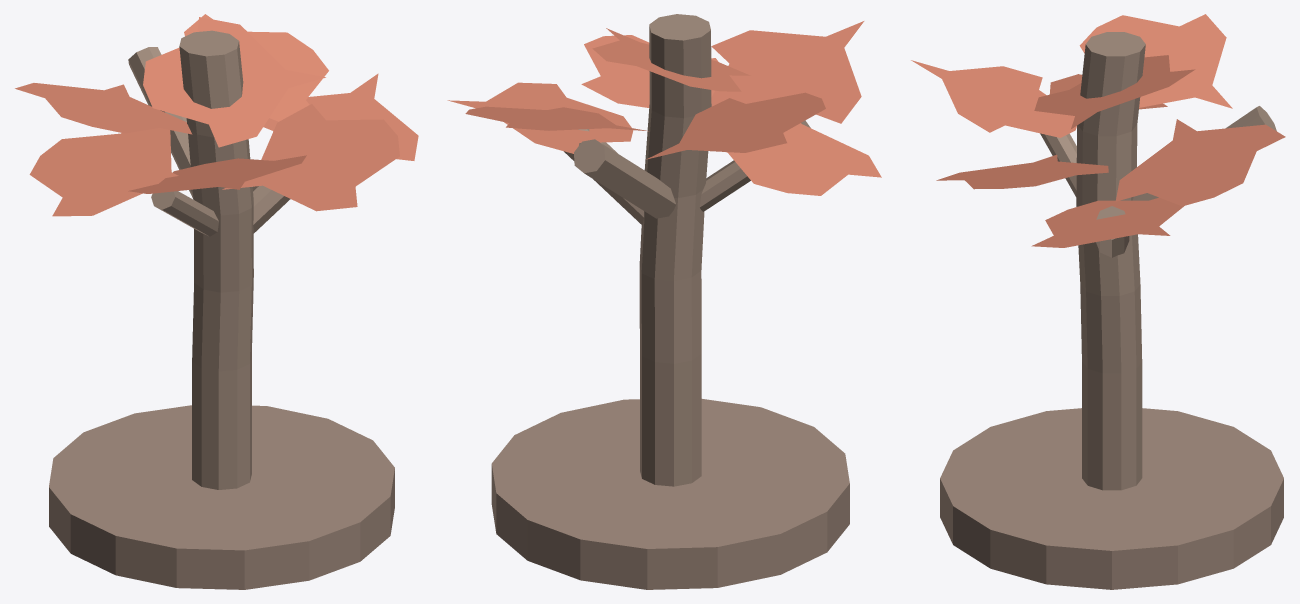
Rendered from maple_growing.glb.
3 views of the same model, side by side, from view 1: azimuth 30°, elevation 25°; view 2: azimuth 150°, elevation 25°; view 3: azimuth 270°, elevation 25° (orthographic). The views are drawn at different scales.
Parts seen in each view (by area): view 1: MapleGrowing_Base, MapleGrowing_Trunk.002, MapleGrowing_Leaf.003, MapleGrowing_Leaf.006, MapleGrowing_Leaf, MapleGrowing_Leaf.002, MapleGrowing_Leaf.004, MapleGrowing_Leaf.005, MapleGrowing_Leaf.001, MapleGrowing_Branch.002, MapleGrowing_Branch, MapleGrowing_Branch.001; view 2: MapleGrowing_Base, MapleGrowing_Trunk.002, MapleGrowing_Leaf.004, MapleGrowing_Leaf.006, MapleGrowing_Leaf.002, MapleGrowing_Leaf.005, MapleGrowing_Branch, MapleGrowing_Leaf.003, MapleGrowing_Leaf, MapleGrowing_Leaf.001, MapleGrowing_Branch.002, MapleGrowing_Branch.001; view 3: MapleGrowing_Base, MapleGrowing_Trunk.002, MapleGrowing_Leaf.001, MapleGrowing_Leaf.004, MapleGrowing_Leaf.002, MapleGrowing_Leaf.005, MapleGrowing_Leaf, MapleGrowing_Leaf.003, MapleGrowing_Branch.002, MapleGrowing_Branch.001, MapleGrowing_Branch, MapleGrowing_Leaf.006.
Boxes of the visible parts, bbox=[...] form: MapleGrowing_Base: bbox=[49, 405, 394, 589]; MapleGrowing_Trunk.002: bbox=[179, 30, 253, 489]; MapleGrowing_Leaf.003: bbox=[222, 104, 399, 211]; MapleGrowing_Leaf.006: bbox=[29, 128, 178, 216]; MapleGrowing_Leaf: bbox=[143, 17, 325, 147]; MapleGrowing_Leaf.002: bbox=[15, 83, 192, 134]; MapleGrowing_Leaf.004: bbox=[128, 155, 306, 193]; MapleGrowing_Leaf.005: bbox=[263, 73, 418, 160]; MapleGrowing_Leaf.001: bbox=[184, 14, 328, 121]; MapleGrowing_Branch.002: bbox=[151, 191, 218, 236]; MapleGrowing_Branch: bbox=[128, 47, 193, 198]; MapleGrowing_Branch.001: bbox=[252, 185, 290, 233]; MapleGrowing_Base: bbox=[491, 399, 849, 589]; MapleGrowing_Trunk.002: bbox=[639, 14, 711, 486]; MapleGrowing_Leaf.004: bbox=[711, 21, 864, 123]; MapleGrowing_Leaf.006: bbox=[726, 123, 881, 195]; MapleGrowing_Leaf.002: bbox=[646, 92, 825, 159]; MapleGrowing_Leaf.005: bbox=[447, 82, 633, 153]; MapleGrowing_Branch: bbox=[574, 139, 675, 218]; MapleGrowing_Leaf.003: bbox=[581, 35, 718, 107]; MapleGrowing_Leaf: bbox=[592, 28, 750, 91]; MapleGrowing_Leaf.001: bbox=[465, 106, 648, 131]; MapleGrowing_Branch.002: bbox=[699, 120, 810, 211]; MapleGrowing_Branch.001: bbox=[564, 129, 643, 225]; MapleGrowing_Base: bbox=[940, 408, 1283, 589]; MapleGrowing_Trunk.002: bbox=[1076, 32, 1145, 490]; MapleGrowing_Leaf.001: bbox=[1115, 119, 1285, 206]; MapleGrowing_Leaf.004: bbox=[911, 60, 1076, 137]; MapleGrowing_Leaf.002: bbox=[1079, 14, 1232, 108]; MapleGrowing_Leaf.005: bbox=[1031, 197, 1183, 247]; MapleGrowing_Leaf: bbox=[1034, 55, 1195, 128]; MapleGrowing_Leaf.003: bbox=[936, 154, 1108, 189]; MapleGrowing_Branch.002: bbox=[1040, 133, 1076, 196]; MapleGrowing_Branch.001: bbox=[1096, 206, 1129, 257]; MapleGrowing_Branch: bbox=[1133, 106, 1276, 200]; MapleGrowing_Leaf.006: bbox=[1049, 74, 1167, 109].
Bounding box in the file's own units: 0.9878 × 1.2 × 0.874.
